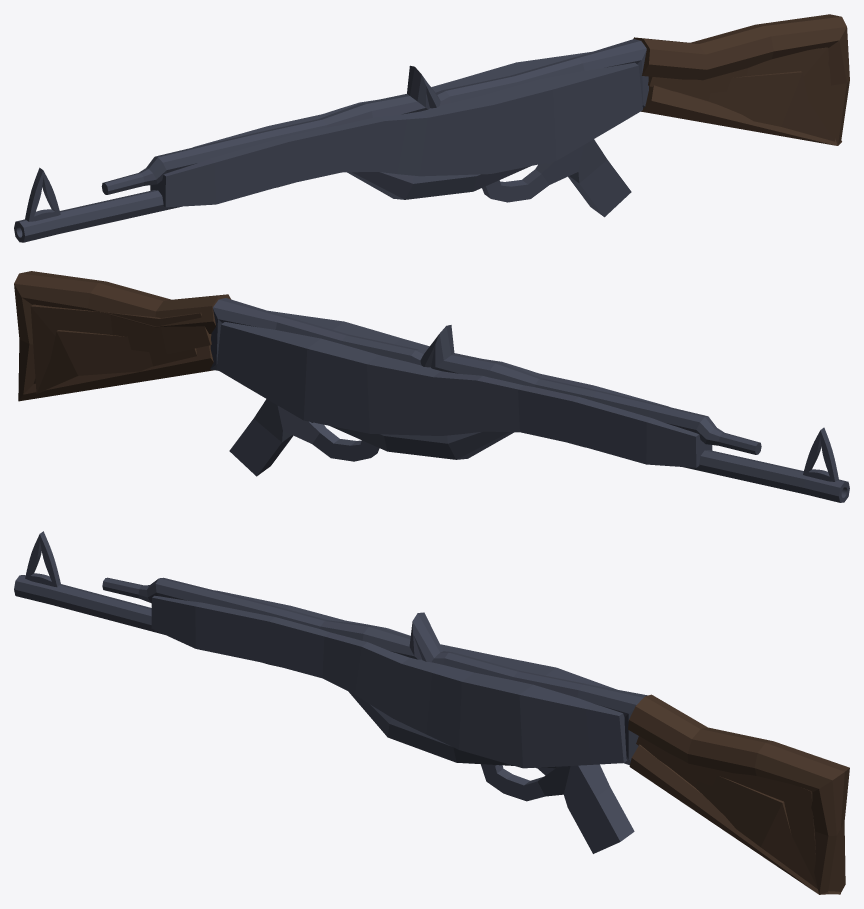
The model's file is rifle.glb.
3 views of the same model, one above another, from view 1: azimuth 30°, elevation 25°; view 2: azimuth 150°, elevation 25°; view 3: azimuth 330°, elevation 25° (orthographic).
Visible parts, largest first — view 1: rifl3_2; view 2: rifl3_2; view 3: rifl3_2.
Part boxes in pixels (bbox=[...]): rifl3_2: bbox=[14, 14, 849, 242]; rifl3_2: bbox=[14, 271, 849, 502]; rifl3_2: bbox=[14, 531, 849, 894].
Size of the model in its own units: 1.25 by 0.2753 by 0.0973.
